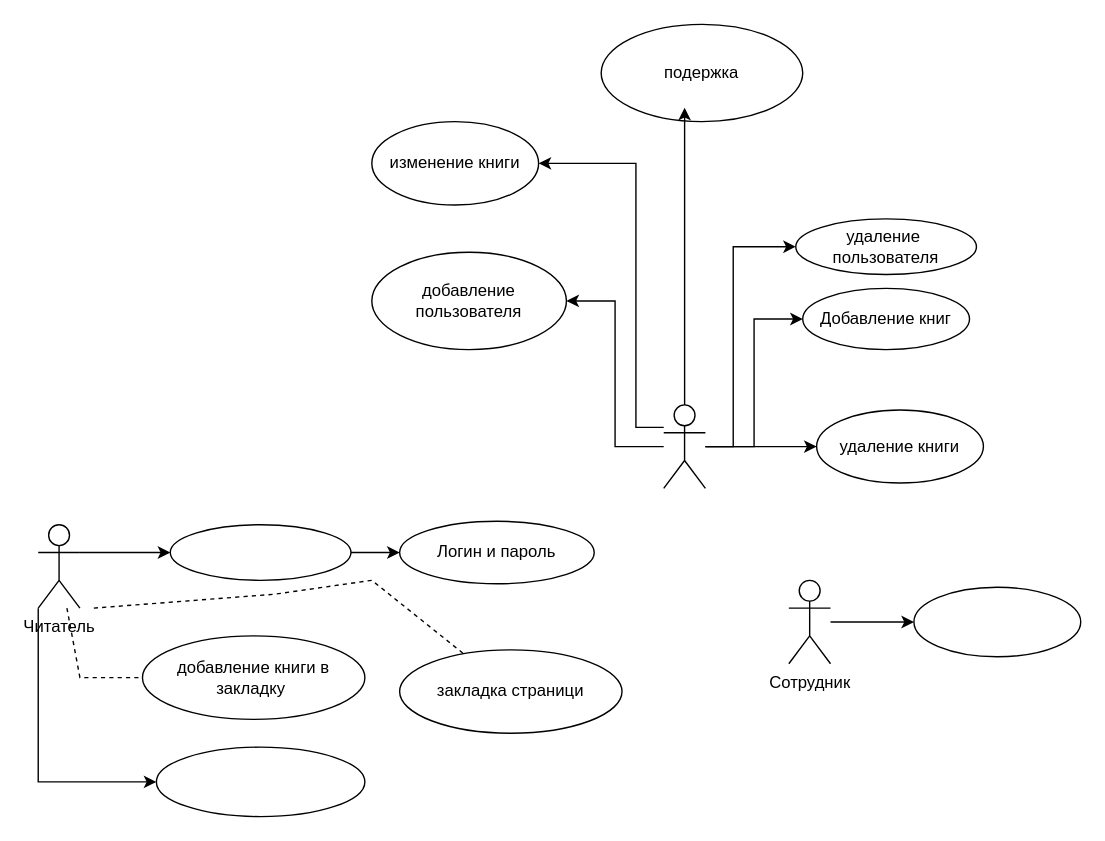
Some shapes in this 1105 by 841 pixel diagram are drawn without their labels. Here are the shapes that lost their labels. From the top down, the centre of each, then its label:
pixel 683 446: Админ
pixel 260 551: Авторизация
pixel 997 621: добавить книги
pixel 260 781: Поиск в каталоге
